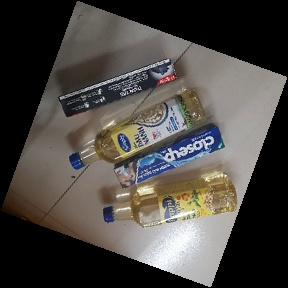CloseUp Tuyet: (113, 121, 226, 189)
Colgate Than: (59, 58, 179, 118)
Happy Soya: (102, 173, 238, 227)
Simply: (69, 88, 207, 171)
